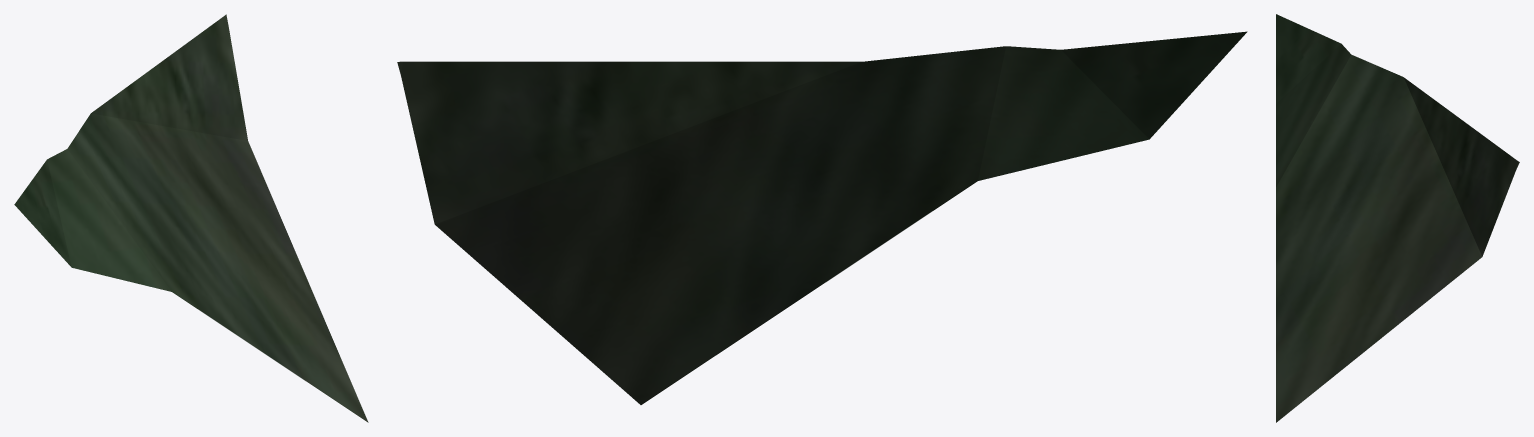
3 renders of one model, left to right at view 1: azimuth 30°, elevation 25°; view 2: azimuth 150°, elevation 25°; view 3: azimuth 270°, elevation 25°, orthographic. The views are drawn at different scales.
Bounding box in the file's own units: 1.42 × 1.16 × 0.986.
Materials: 1 (1 with a texture image).
